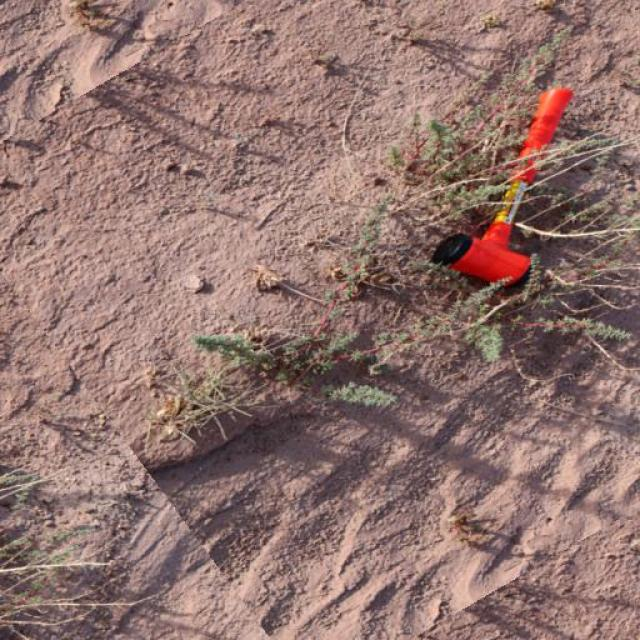mallet: (430, 84, 574, 288)
